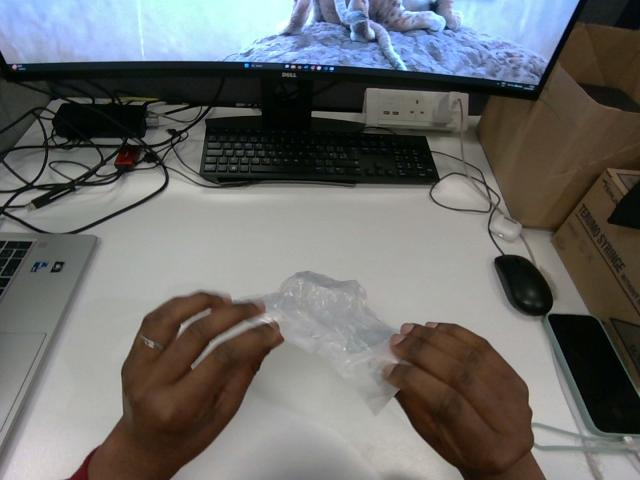gallipot: (259, 271, 397, 413)
